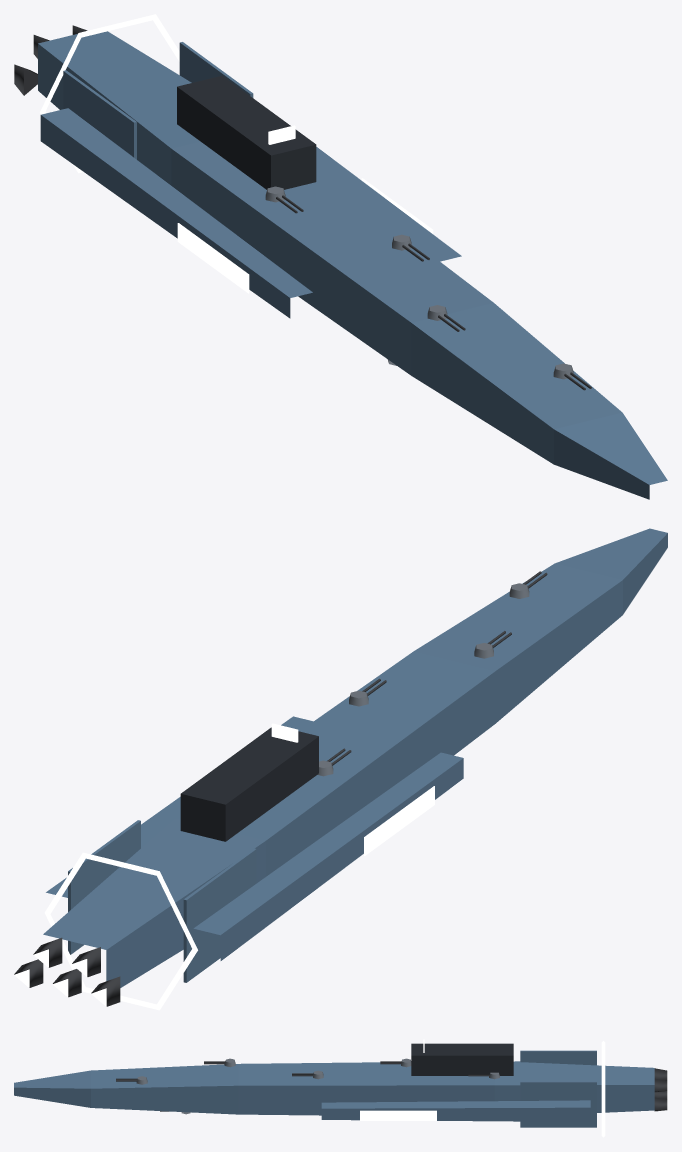
File: space_ship_cruiser_mk6_lod2.glb
3 views of the same model, one above another, from view 1: azimuth 30°, elevation 25°; view 2: azimuth 150°, elevation 25°; view 3: azimuth 270°, elevation 25° (orthographic). The views are drawn at different scales.
Parts seen in each view (by area): view 1: body, hangar_r; view 2: body, hangar_r; view 3: body, hangar_l, engine_3, engine_4.
Part boxes in pixels (x1,y1,x2,y2): body: [38, 14, 667, 499]; hangar_r: [177, 223, 249, 293]; body: [43, 528, 667, 1010]; hangar_r: [364, 786, 434, 855]; body: [14, 1039, 654, 1137]; hangar_l: [360, 1110, 436, 1120]; engine_3: [654, 1078, 667, 1092]; engine_4: [654, 1097, 667, 1111].
Bounding box in the file's own units: 18.56 × 14.93 × 105.
